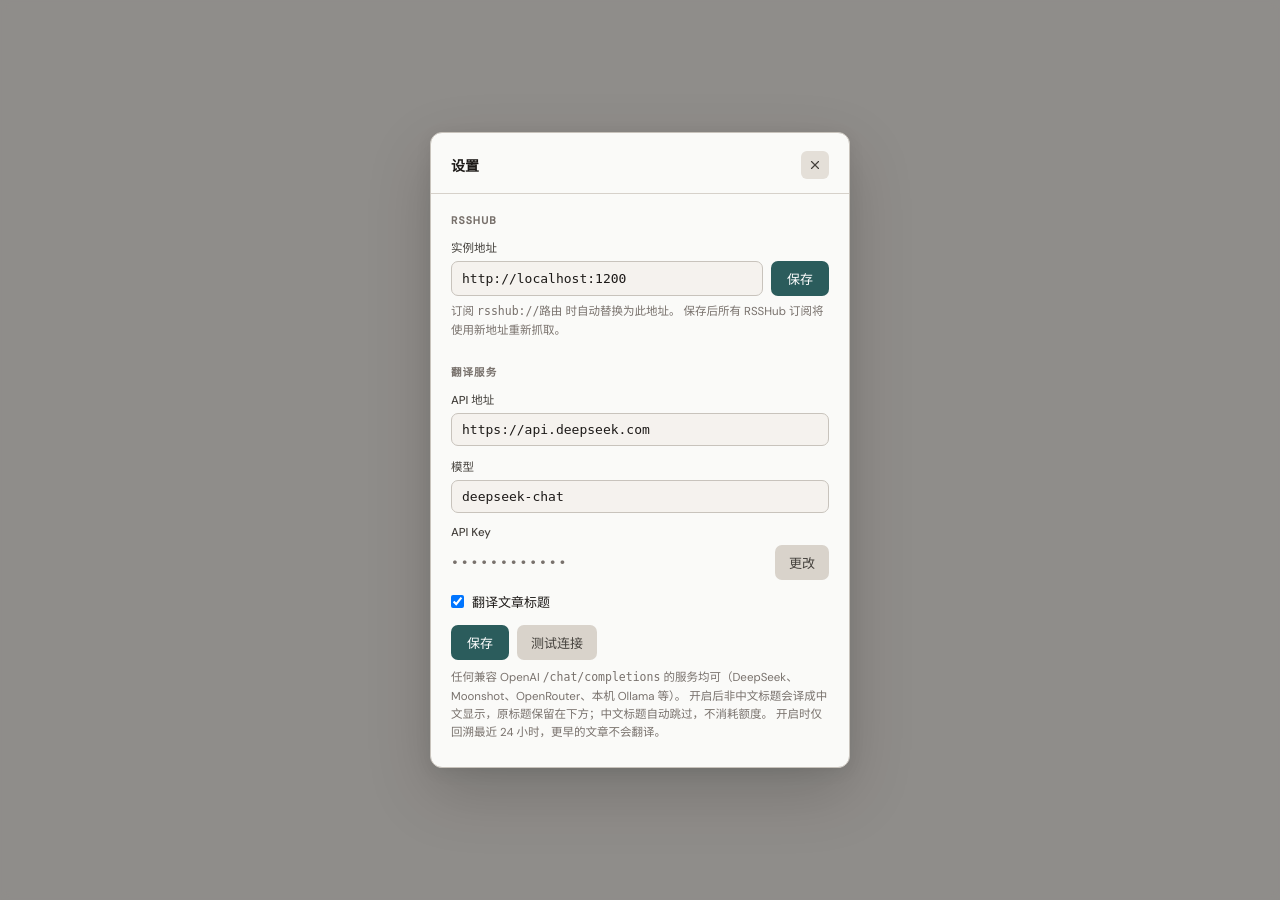
Test: SettingsModal translation service › disables 测试连接 while there are unsaved edits
Expected: the button "测试连接" is enabled, [517,625,597,660]
Type "kimi-k2" into the field with placeholder "deepseek-chat" below "模型" at point(640, 497), box [451,480,829,513]
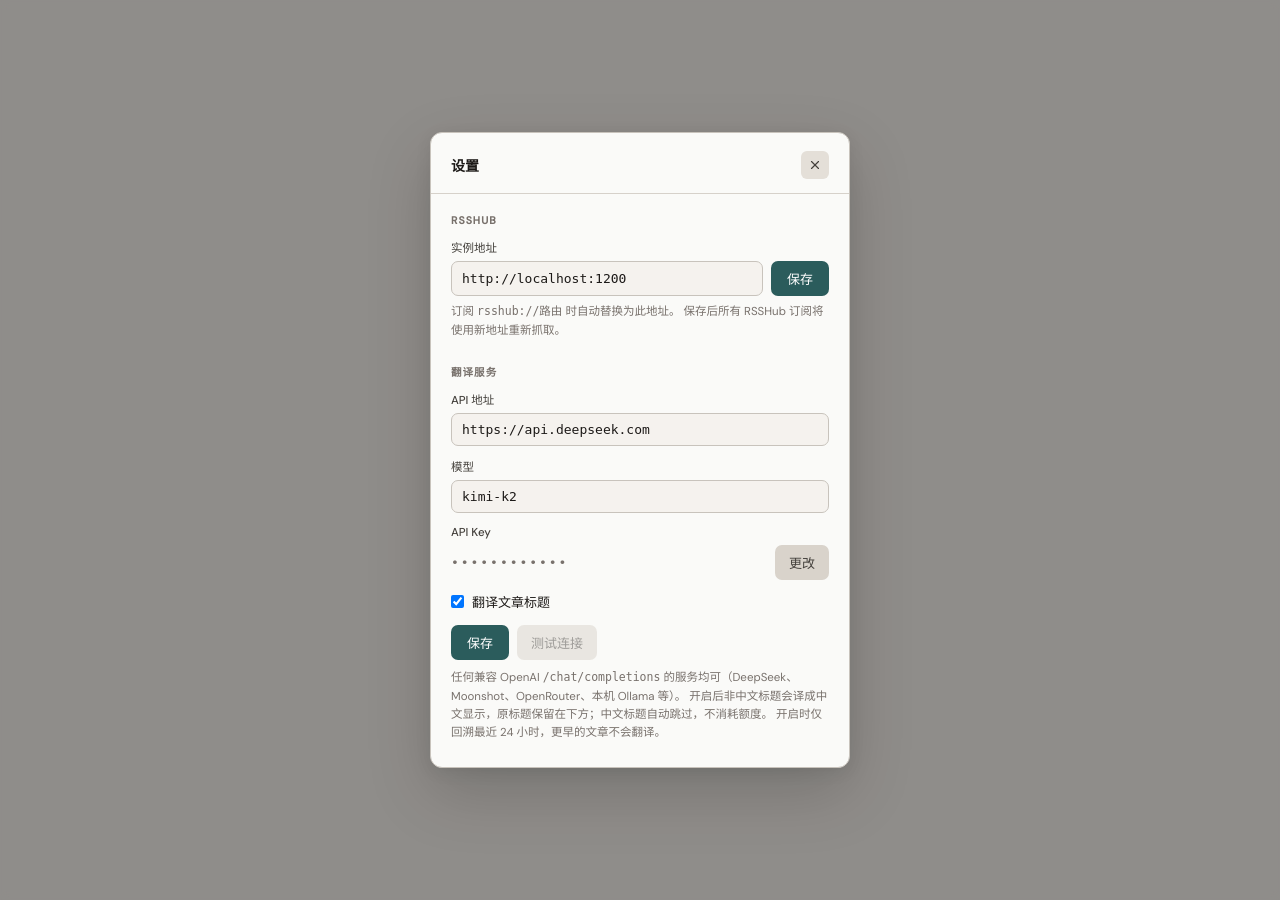
Expected: the button "测试连接" is disabled, [517,625,597,660]
